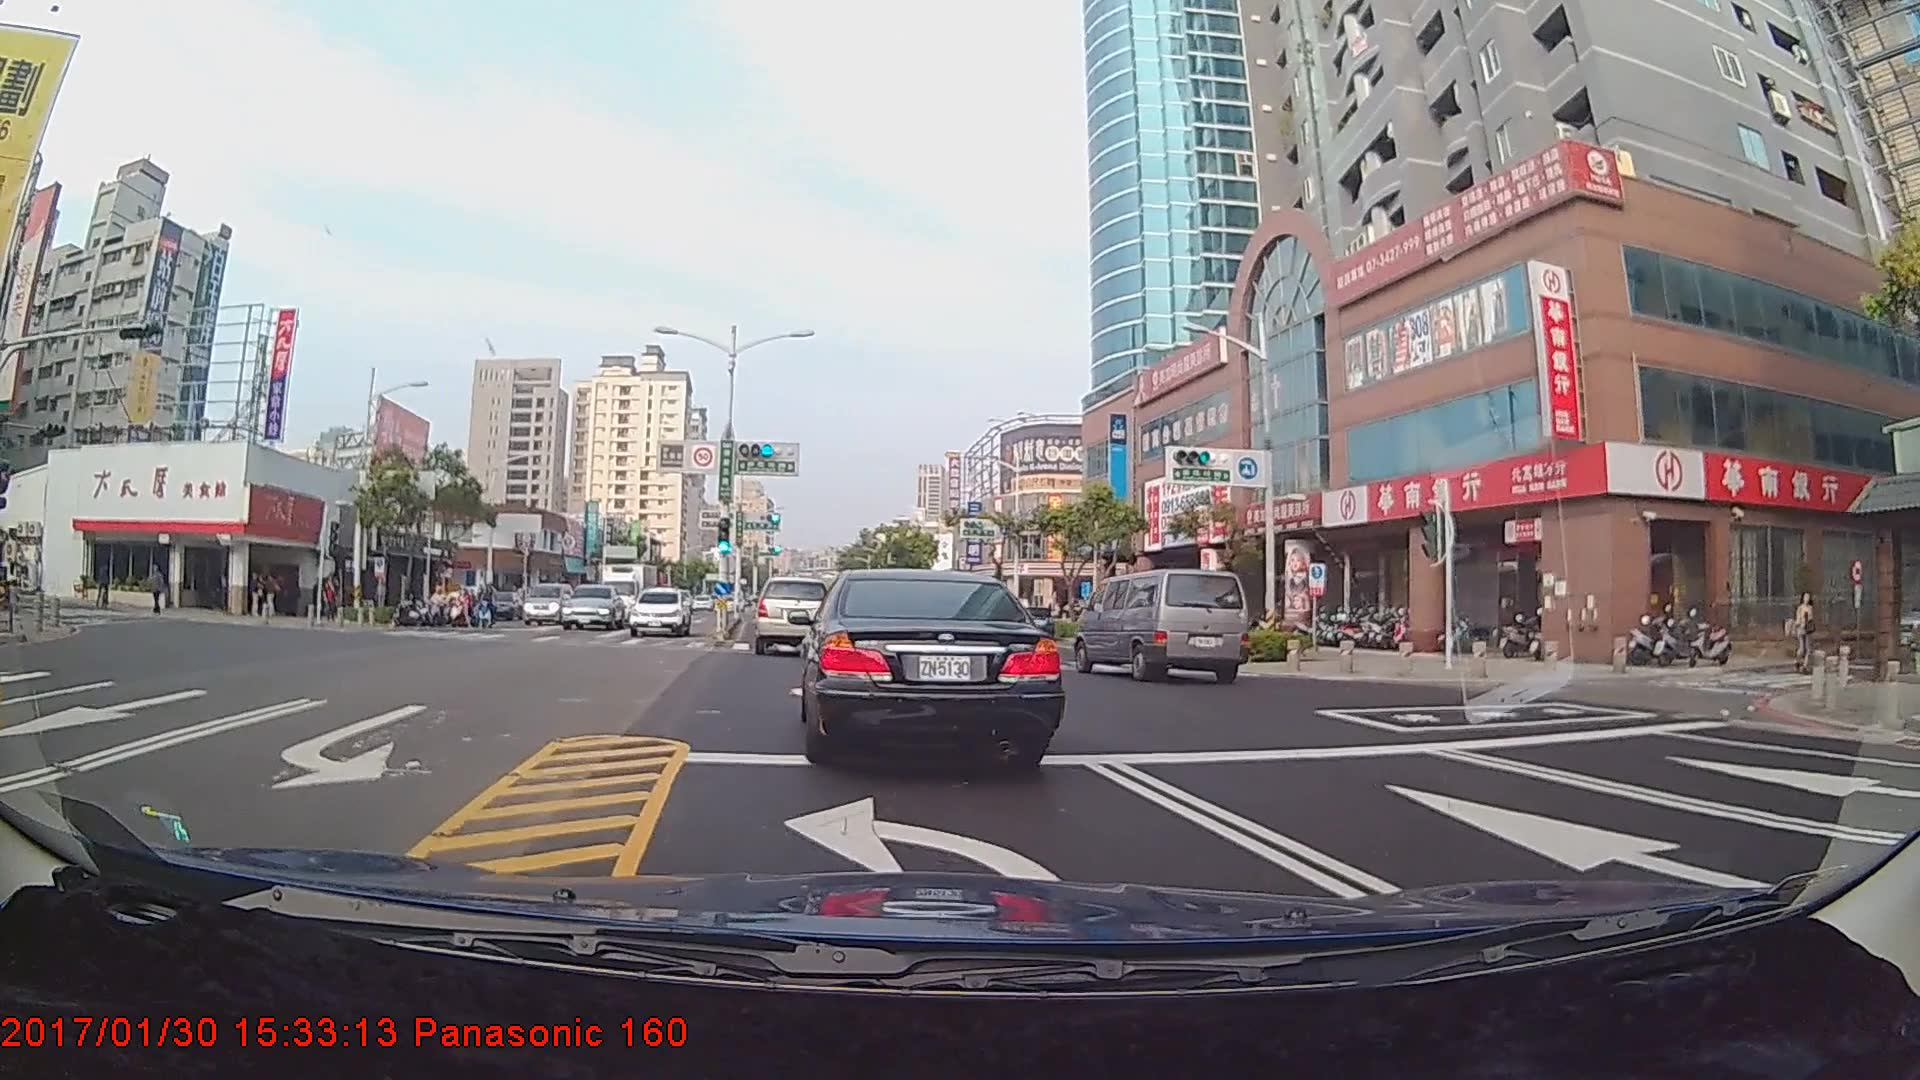pedestrian: (1794, 590, 1819, 663), (251, 570, 271, 620), (147, 565, 167, 613), (264, 573, 284, 621)
vehicle: (799, 567, 1054, 768), (1079, 565, 1246, 684), (752, 577, 831, 654), (605, 555, 666, 628), (561, 583, 627, 631), (630, 586, 691, 637), (521, 579, 577, 625), (1006, 602, 1056, 642)
